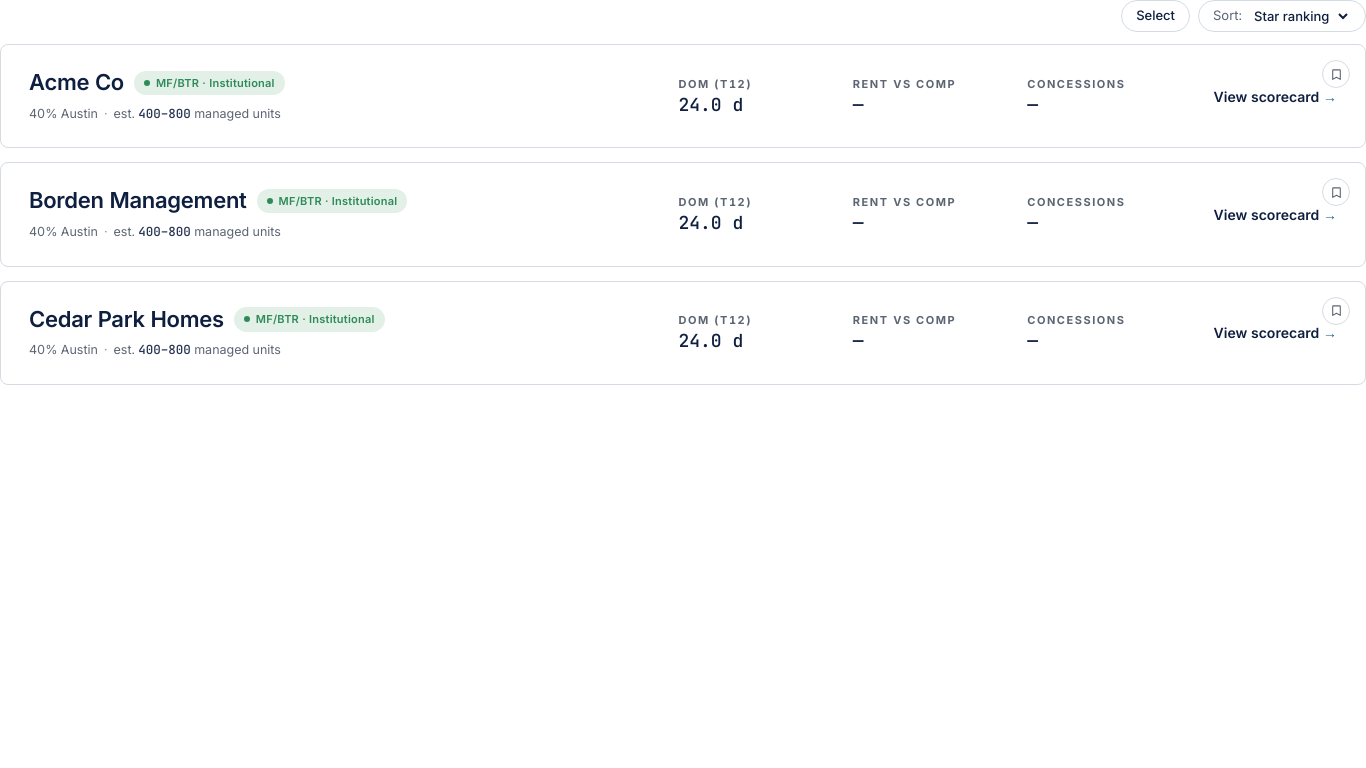
Test: RankedOperatorList — multi-select roster builder › choosing the existing own list POSTs both memberKeys to its /members endpoint
The image size is (1366, 768).
Click the button "Select" at (1156, 16), box [1121,0,1190,32]
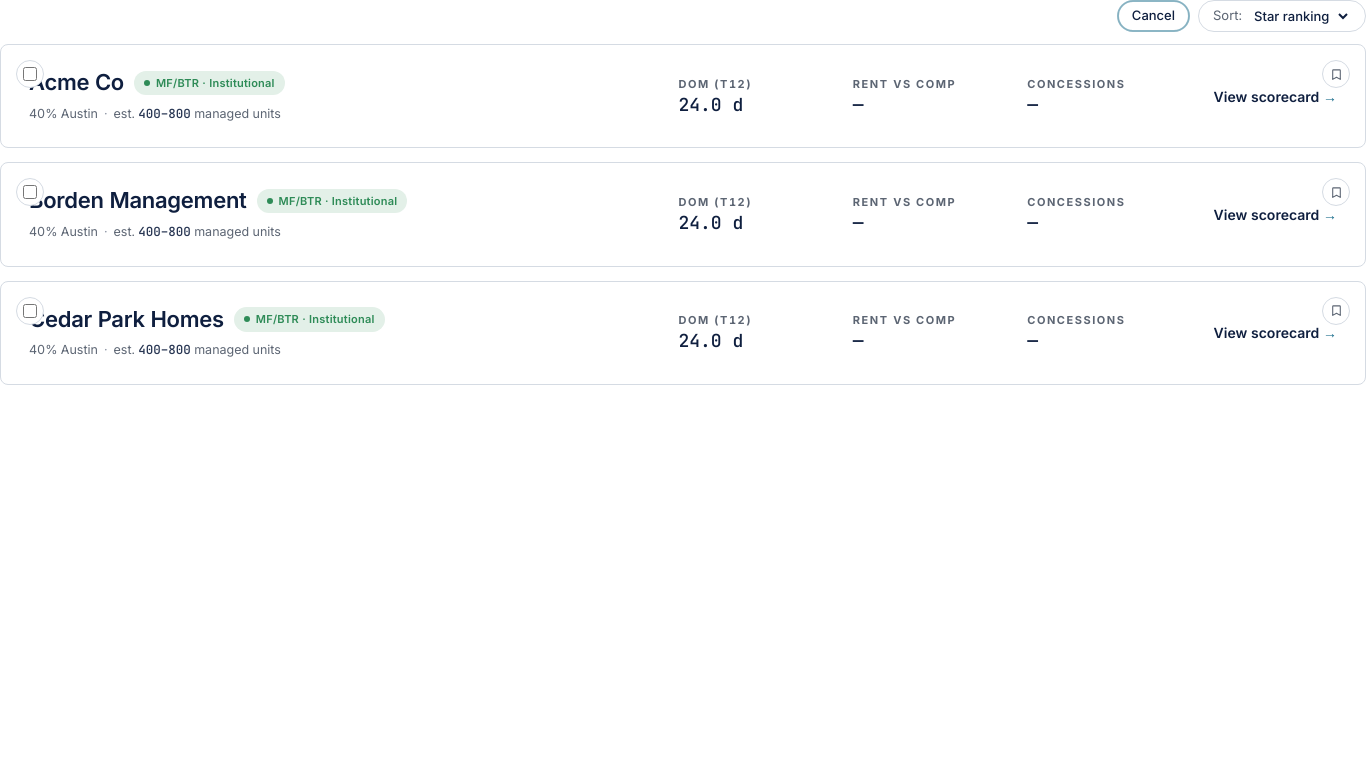
Click the checkbox named "Acme Co" at (30, 74), box [23,67,37,81]
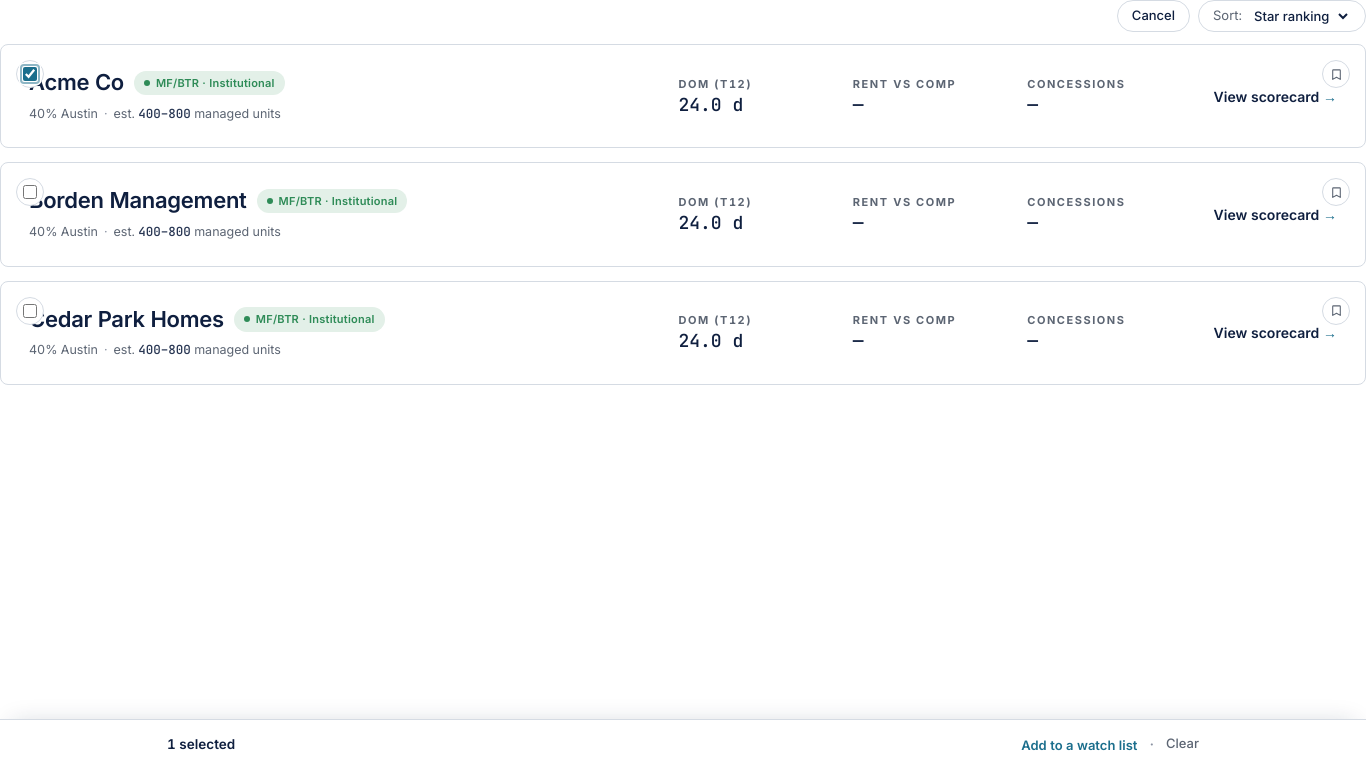
Click the checkbox named "Borden Management" at (30, 192), box [23,185,37,199]
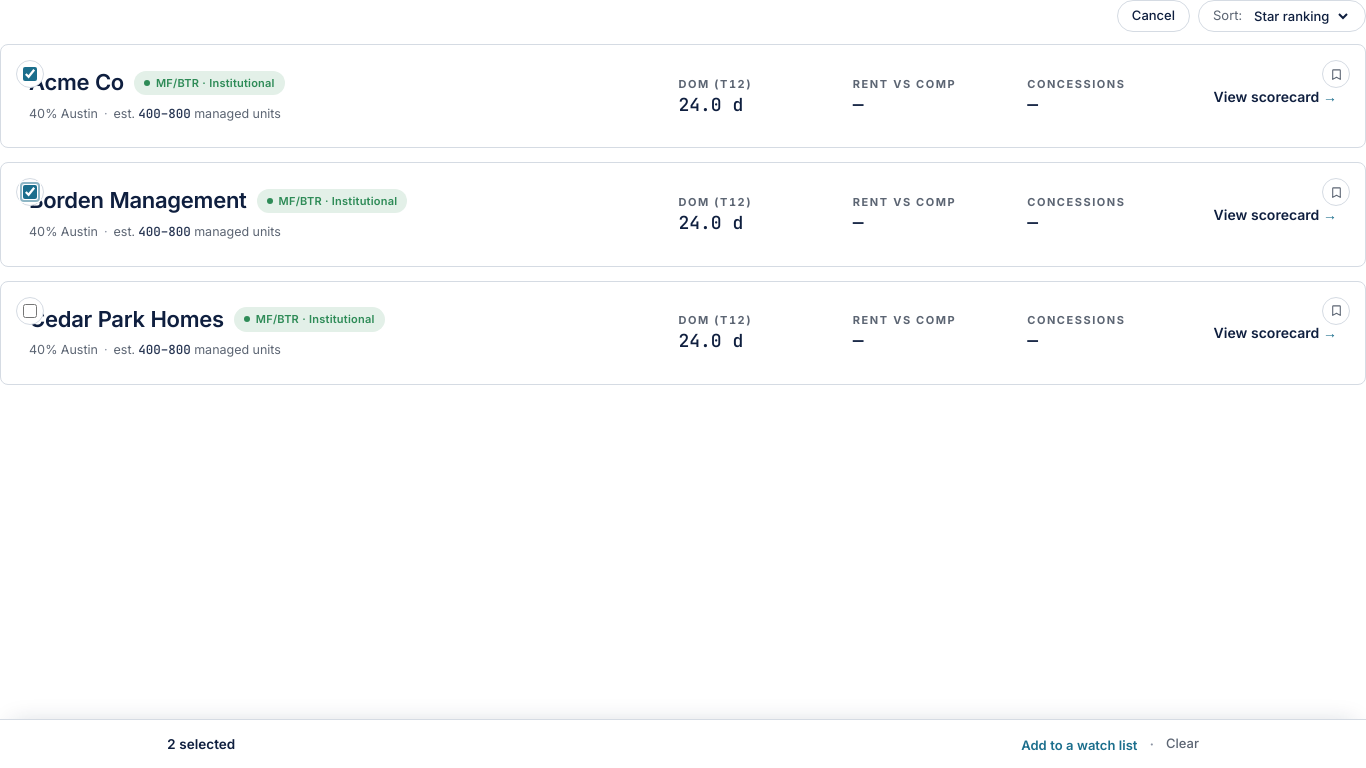
Click the button "Add to a watch list" at (1079, 746), box [1021,736,1137,756]
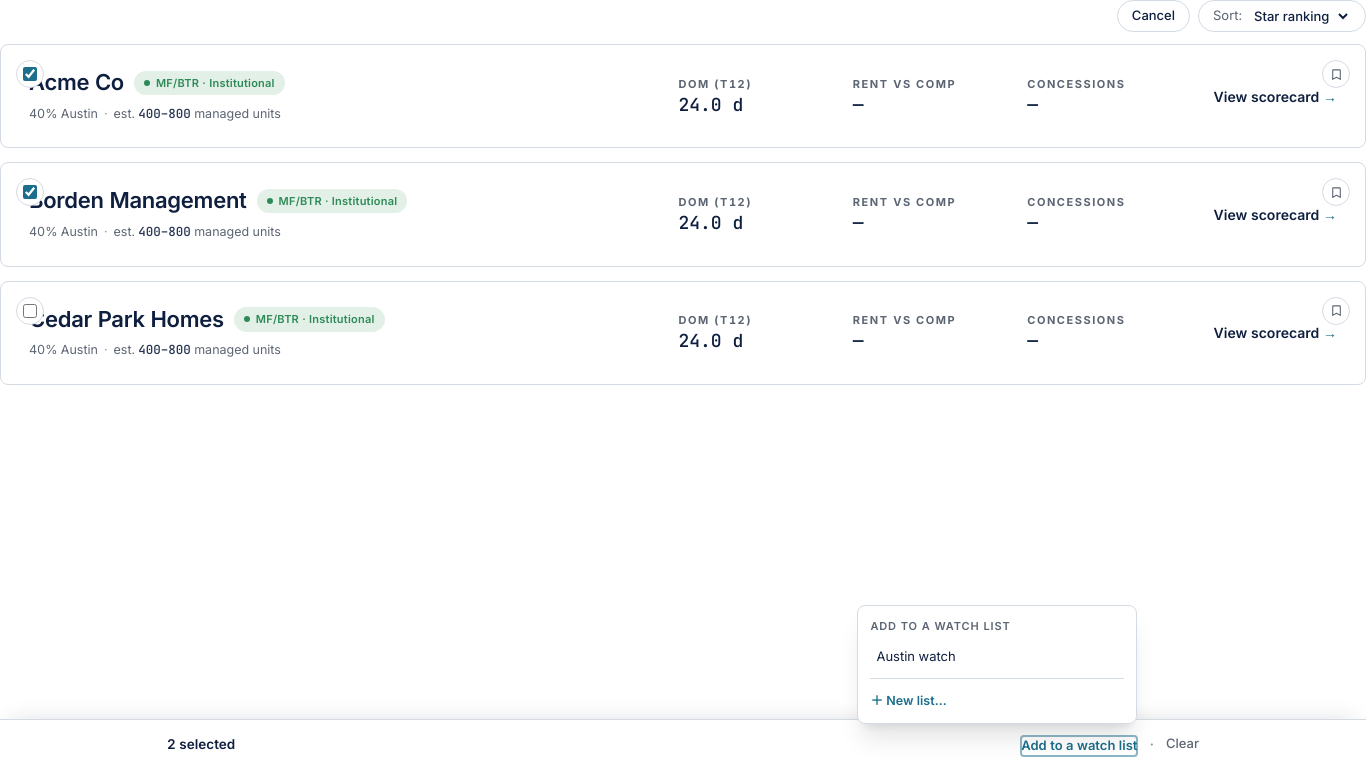
Result: the button "Austin watch" is shown
Click the button "Austin watch" at (997, 656), box [870,642,1124,670]
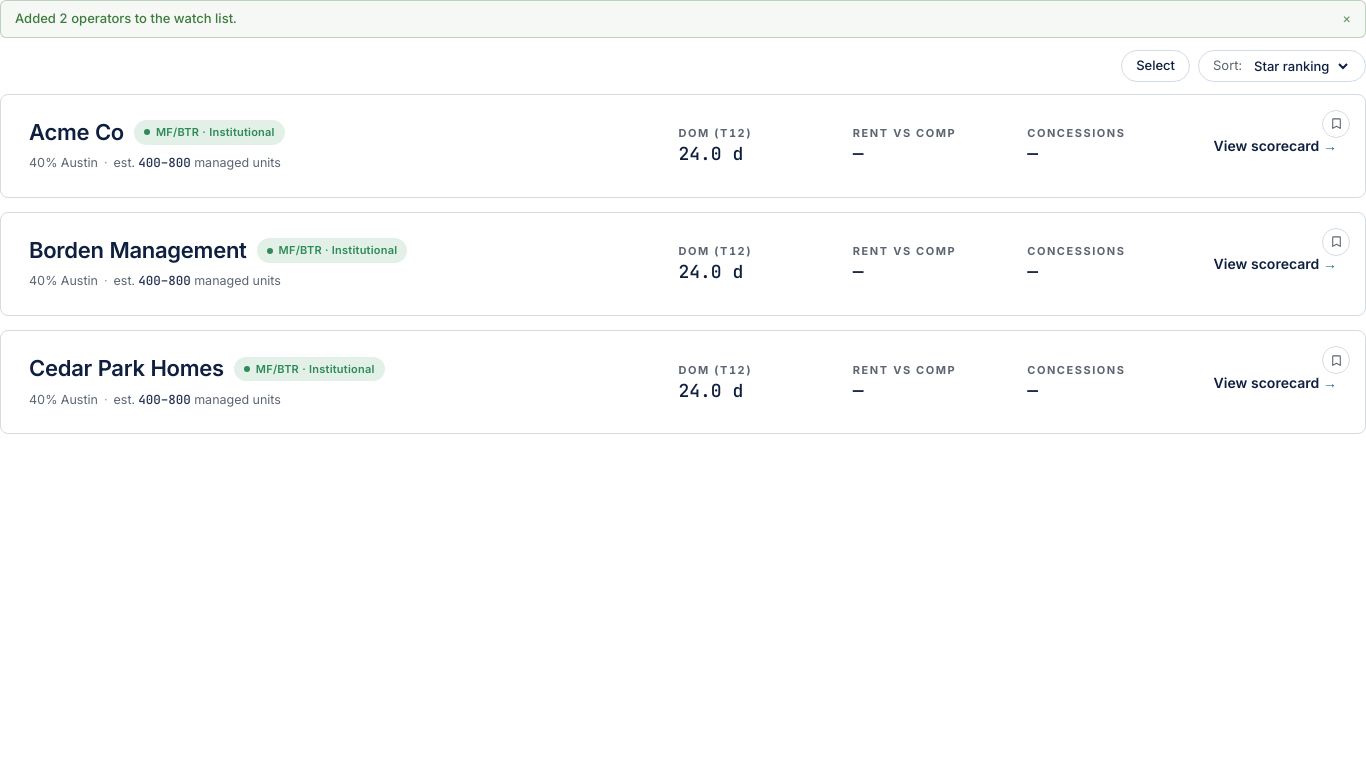
Result: the text "2 selected" is gone
Result: no checkboxes are shown
Result: the message shows "Added 2 operators to the watch list." at [15,10,237,26]
